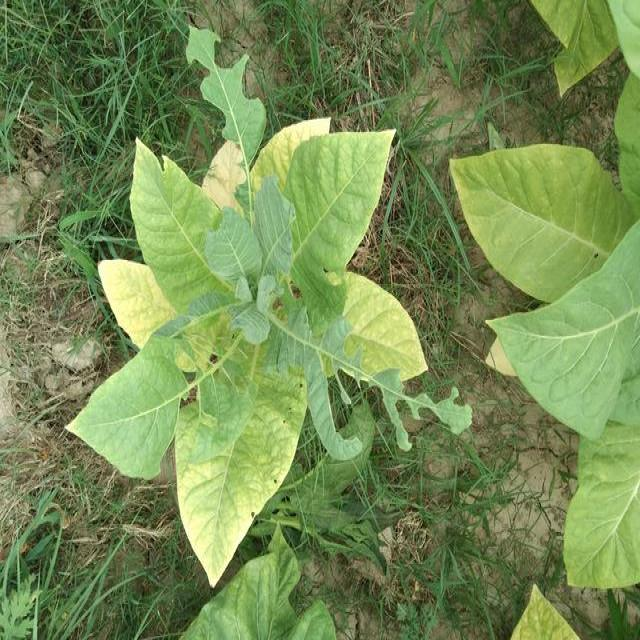crop: (63, 18, 469, 594)
